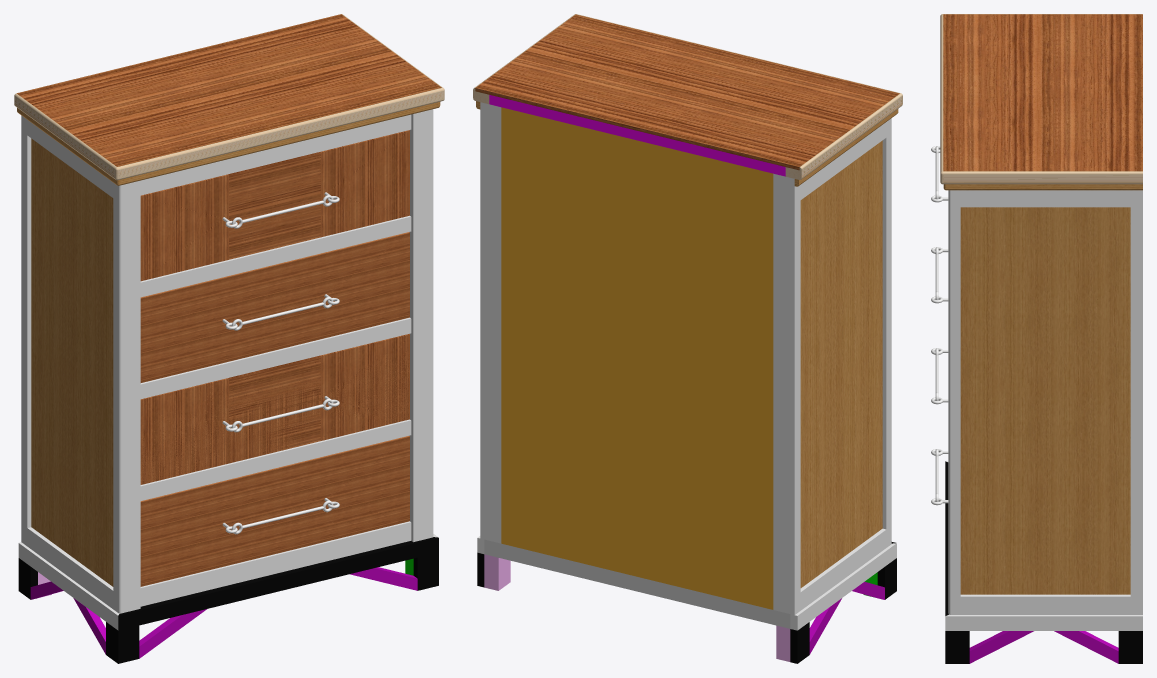
The model's file is 3421CHT-COMPLETO-mwmnon71.glb.
The picture shows the model from 3 angles, left to right: view 1: azimuth 30°, elevation 25°; view 2: azimuth 150°, elevation 25°; view 3: azimuth 270°, elevation 25°; orthographic projection.
Visible parts, largest first — view 1: 3421CHT-VISTA DE CAJON-1 (×3), 3421CHT-HUACAL COSTADO-3/3421CHT-TABLERO DE COSTADO-1, 3421CHT1-CUBIERTA CON BOQUILLA-1/3421CHT1-CUBIERTA-1, 3421CHT-VISTA CAJON-1/3421DSR-VISTA DE CAJON SUP LAT-3 (×2), 3421CHT-VISTA CAJON-1/3421DSR-VISTA DE CAJON SUP LAT-1 (×2), 3421CHT-VISTA CAJON-1/3421DSR-VISTA DE CAJON SUP CENTRAL-1 (×2), 3421CHT-HUACAL FRONTAL-1/3421CHT-POSTE FRONTAL-4, 3421CHT-HUACAL FRONTAL-1/3421CHT-POSTE FRONTAL-1, 3421CHEST-MOLDURA INFERIOR FRONTAL-1, 3421CHT-HUACAL FRONTAL-1/3421CHT-ARMADOR FRONTAL INFERIOR-1, 3421CHT1-CUBIERTA CON BOQUILLA-1/3421CHT1-BOQUILLA FRONTAL C, 3421CHT-HUACAL FRONTAL-1/3421CHT-ARMADOR FRONTAL CENTRAL-6 (+14 smaller); view 2: 3421CHT-RESPALDO-1, 3421CHT1-CUBIERTA CON BOQUILLA-1/3421CHT1-CUBIERTA-1, 3421CHT-HUACAL COSTADO-3/3421CHT-TABLERO DE COSTADO-1, 3421CHT-HUACAL COSTADO-3/3421CHT-POSTE POSTERIOR1-1, 3421CHT-HUACAL COSTADO-1/3421CHT-POSTE POSTERIOR1-1, 3421CHEST - ARMADOR FRONT BASE-2, 3421CHT-HUACAL FRONTAL-1/3421CHT-POSTE FRONTAL-4, 3421CHT1-CUBIERTA CON BOQUILLA-1/3421CHT1-CARGADOR FRONTAL C, 3421CHT-HUACAL COSTADO-3/3421CHT-ARMADOR DE COSTADO INF-1, 3421CHEST-MOLDURA INFERIOR LATERAL-2, 3421CHT1-CUBIERTA CON BOQUILLA-1/3421CHT1-BOQUILLA LATERAL C, 3421CHT-HUACAL COSTADO-3/3421CHT-ARMADOR DE COSTADO-3 (+2 smaller); view 3: 3421CHT-HUACAL COSTADO-1/3421CHT-TABLERO DE COSTADO-1, 3421CHT1-CUBIERTA CON BOQUILLA-1/3421CHT1-CUBIERTA-1, 3421CHT-HUACAL COSTADO-1/3421CHT-POSTE POSTERIOR1-1, 3421CHT-HUACAL FRONTAL-1/3421CHT-POSTE FRONTAL-1, 3421CHT-HUACAL COSTADO-1/3421CHT-ARMADOR DE COSTADO INF-1, 3421CHEST-MOLDURA INFERIOR LATERAL-1, 3421CHT-HUACAL COSTADO-1/3421CHT-ARMADOR DE COSTADO-3, 3421CHT1-CUBIERTA CON BOQUILLA-1/3421CHT1-BOQUILLA LATERAL C, 3421-JALADERA CADENA GRANDE-1 (×4), 3421CHT-MOLDURA LATERAL CUBIERTA-1, 3421CHEST-ESCUADRA VISTA LATERAL-1, 3421CHEST-ESCUADRA VISTA LATERAL-2 (+4 smaller).
Boxes of the visible parts, x1,y1,x2,y2 form: 3421CHT-VISTA DE CAJON-1 (×3): [140, 232, 409, 586]; 3421CHT-HUACAL COSTADO-3/3421CHT-TABLERO DE COSTADO-1: [31, 138, 113, 586]; 3421CHT1-CUBIERTA CON BOQUILLA-1/3421CHT1-CUBIERTA-1: [17, 14, 441, 166]; 3421CHT-VISTA CAJON-1/3421DSR-VISTA DE CAJON SUP LAT-3 (×2): [320, 130, 409, 440]; 3421CHT-VISTA CAJON-1/3421DSR-VISTA DE CAJON SUP LAT-1 (×2): [140, 174, 228, 484]; 3421CHT-VISTA CAJON-1/3421DSR-VISTA DE CAJON SUP CENTRAL-1 (×2): [228, 152, 320, 454]; 3421CHT-HUACAL FRONTAL-1/3421CHT-POSTE FRONTAL-4: [113, 180, 140, 613]; 3421CHT-HUACAL FRONTAL-1/3421CHT-POSTE FRONTAL-1: [409, 109, 433, 542]; 3421CHEST-MOLDURA INFERIOR FRONTAL-1: [118, 537, 438, 630]; 3421CHT-HUACAL FRONTAL-1/3421CHT-ARMADOR FRONTAL INFERIOR-1: [140, 521, 411, 606]; 3421CHT1-CUBIERTA CON BOQUILLA-1/3421CHT1-BOQUILLA FRONTAL C: [115, 87, 444, 180]; 3421CHT-HUACAL FRONTAL-1/3421CHT-ARMADOR FRONTAL CENTRAL-6: [140, 419, 411, 500]; 3421CHT-RESPALDO-1: [501, 107, 773, 609]; 3421CHT1-CUBIERTA CON BOQUILLA-1/3421CHT1-CUBIERTA-1: [475, 14, 899, 170]; 3421CHT-HUACAL COSTADO-3/3421CHT-TABLERO DE COSTADO-1: [800, 140, 882, 587]; 3421CHT-HUACAL COSTADO-3/3421CHT-POSTE POSTERIOR1-1: [773, 173, 800, 614]; 3421CHT-HUACAL COSTADO-1/3421CHT-POSTE POSTERIOR1-1: [480, 102, 501, 543]; 3421CHEST - ARMADOR FRONT BASE-2: [484, 539, 790, 628]; 3421CHT-HUACAL FRONTAL-1/3421CHT-POSTE FRONTAL-4: [882, 118, 891, 547]; 3421CHT1-CUBIERTA CON BOQUILLA-1/3421CHT1-CARGADOR FRONTAL C: [489, 95, 785, 176]; 3421CHT-HUACAL COSTADO-3/3421CHT-ARMADOR DE COSTADO INF-1: [800, 528, 886, 610]; 3421CHEST-MOLDURA INFERIOR LATERAL-2: [790, 543, 896, 630]; 3421CHT1-CUBIERTA CON BOQUILLA-1/3421CHT1-BOQUILLA LATERAL C: [785, 93, 902, 179]; 3421CHT-HUACAL COSTADO-3/3421CHT-ARMADOR DE COSTADO-3: [800, 122, 886, 199]; 3421CHT-HUACAL COSTADO-1/3421CHT-TABLERO DE COSTADO-1: [960, 207, 1130, 594]; 3421CHT1-CUBIERTA CON BOQUILLA-1/3421CHT1-CUBIERTA-1: [943, 14, 1142, 171]; 3421CHT-HUACAL COSTADO-1/3421CHT-POSTE POSTERIOR1-1: [1130, 190, 1142, 614]; 3421CHT-HUACAL FRONTAL-1/3421CHT-POSTE FRONTAL-1: [948, 190, 960, 614]; 3421CHT-HUACAL COSTADO-1/3421CHT-ARMADOR DE COSTADO INF-1: [960, 594, 1130, 614]; 3421CHEST-MOLDURA INFERIOR LATERAL-1: [945, 614, 1142, 630]; 3421CHT-HUACAL COSTADO-1/3421CHT-ARMADOR DE COSTADO-3: [960, 190, 1130, 207]; 3421CHT1-CUBIERTA CON BOQUILLA-1/3421CHT1-BOQUILLA LATERAL C: [943, 171, 1142, 184]; 3421-JALADERA CADENA GRANDE-1 (×4): [931, 146, 948, 505]; 3421CHT-MOLDURA LATERAL CUBIERTA-1: [944, 184, 1142, 190]; 3421CHEST-ESCUADRA VISTA LATERAL-1: [1054, 631, 1118, 663]; 3421CHEST-ESCUADRA VISTA LATERAL-2: [969, 631, 1033, 663].
Size of the model in its own units: 0.93 by 1.35 by 0.523.
Materials: 18 (5 with a texture image).
